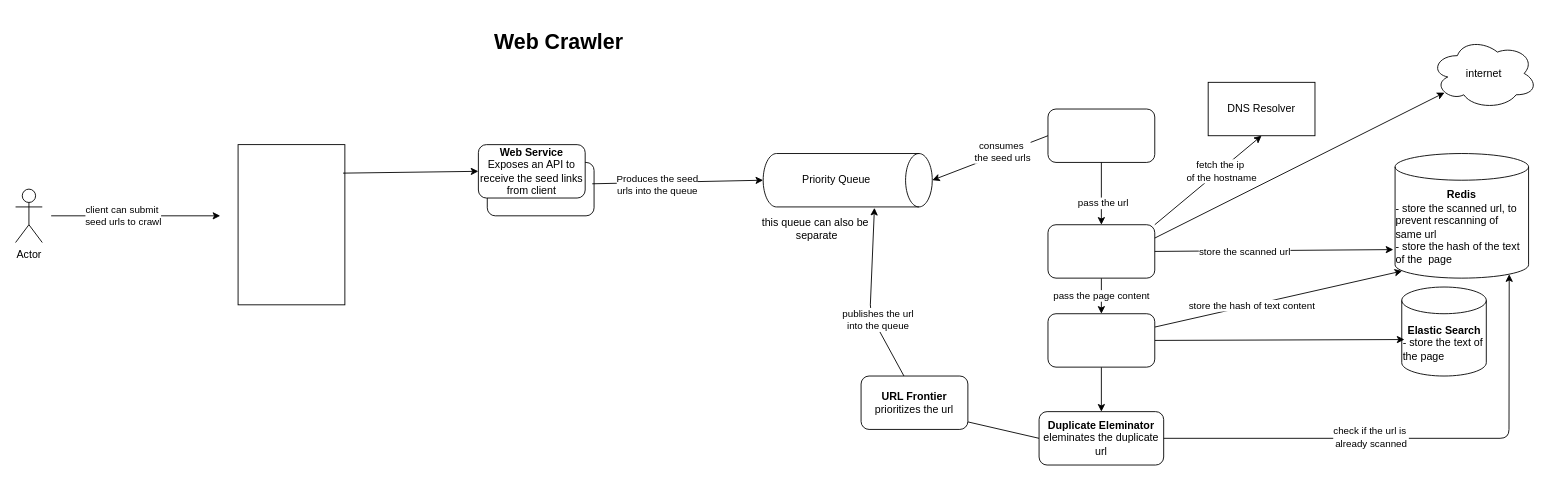
This 1553x481 diagram has some shape labels left out. The box of each missing label's shape, as (x1, y1, x2, y2) in pixels:
Consumer: (1047, 108, 1155, 162)
Extractor extracts the url from the page content: (1047, 313, 1155, 367)
Http Fetcher Fetches the content of the url from its respective server: (1047, 224, 1155, 278)
Load Balancer: (237, 144, 345, 305)
